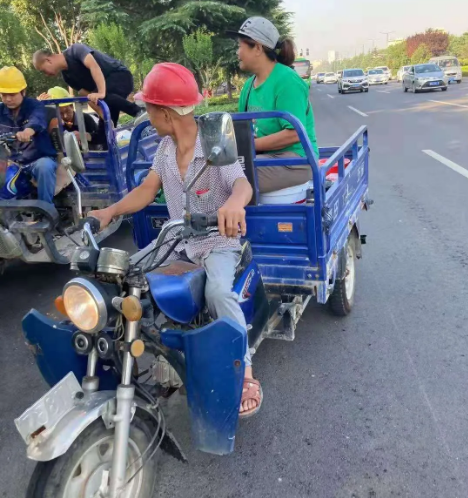driver: (122, 62, 266, 418), (1, 66, 67, 226)
overloading: (40, 16, 389, 498), (1, 50, 129, 250)
passenger: (222, 16, 316, 186), (35, 40, 120, 119)
